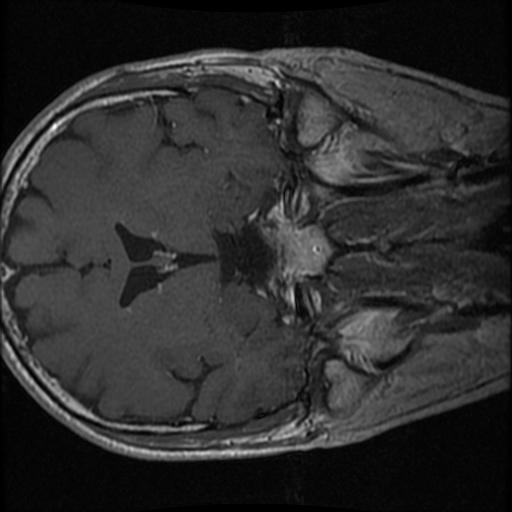pituitary tumour: (257, 200, 336, 286)
